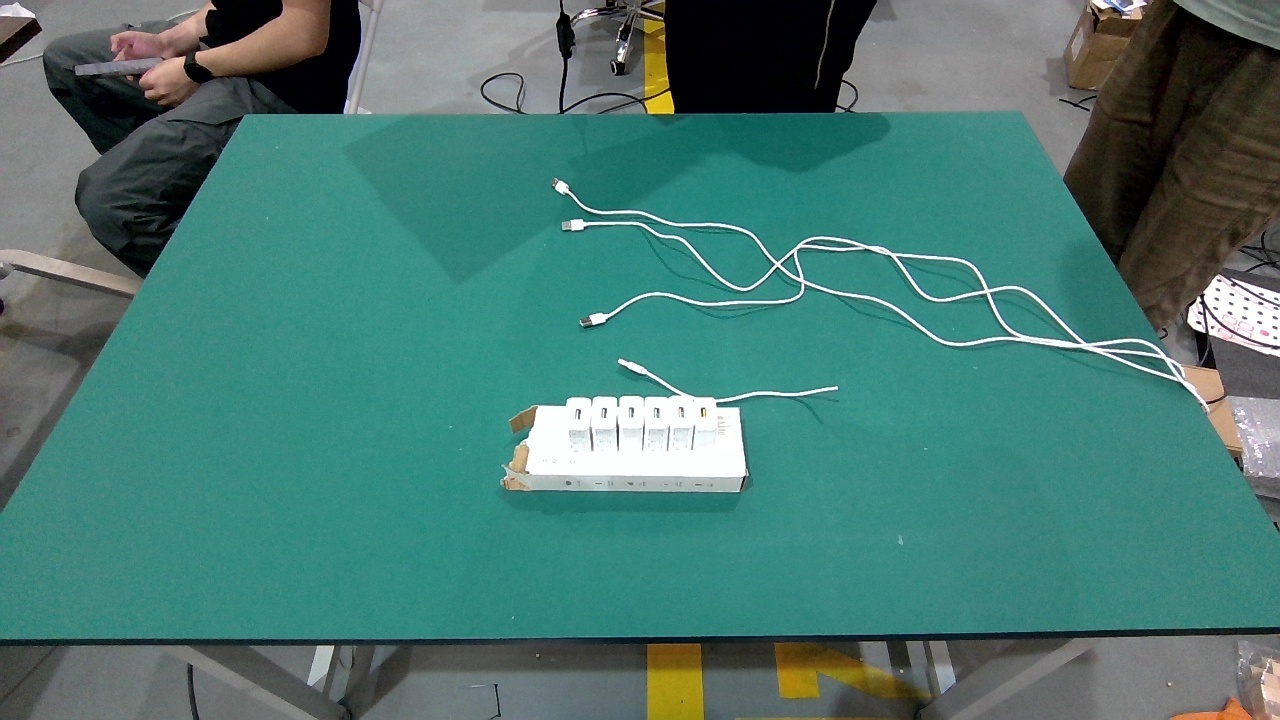usb_a_port: (698, 406, 710, 420), (652, 406, 663, 420), (626, 406, 636, 420), (677, 406, 687, 420), (573, 407, 582, 421), (601, 406, 608, 421)
